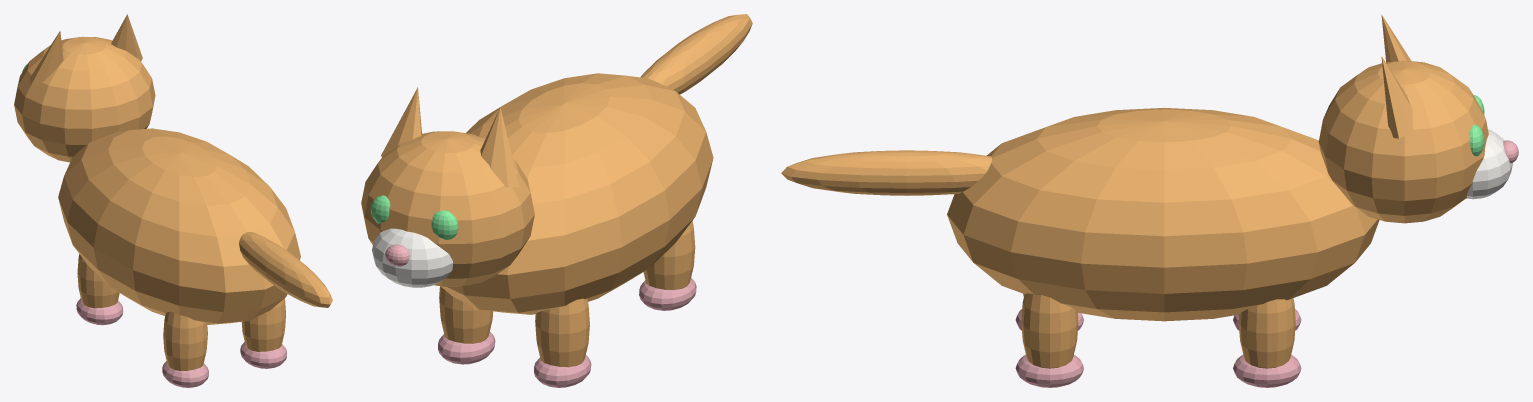
Rendered from variant_cat_orange.glb.
3 views of the same model, side by side, from view 1: azimuth 30°, elevation 25°; view 2: azimuth 150°, elevation 25°; view 3: azimuth 270°, elevation 25° (orthographic). The views are drawn at different scales.
Parts seen in each view (by area): view 1: Cat; view 2: Cat; view 3: Cat.
Part boxes in pixels (x1,y1,x2,y2): Cat: (14, 14, 332, 387); Cat: (361, 14, 752, 387); Cat: (781, 14, 1518, 387).
Size of the model in its own units: 0.3369 by 0.48 by 0.9878.
